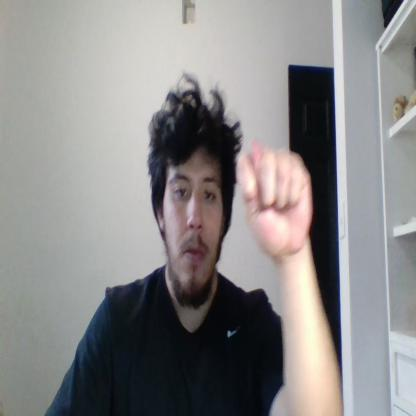T: (238, 138, 312, 258)
